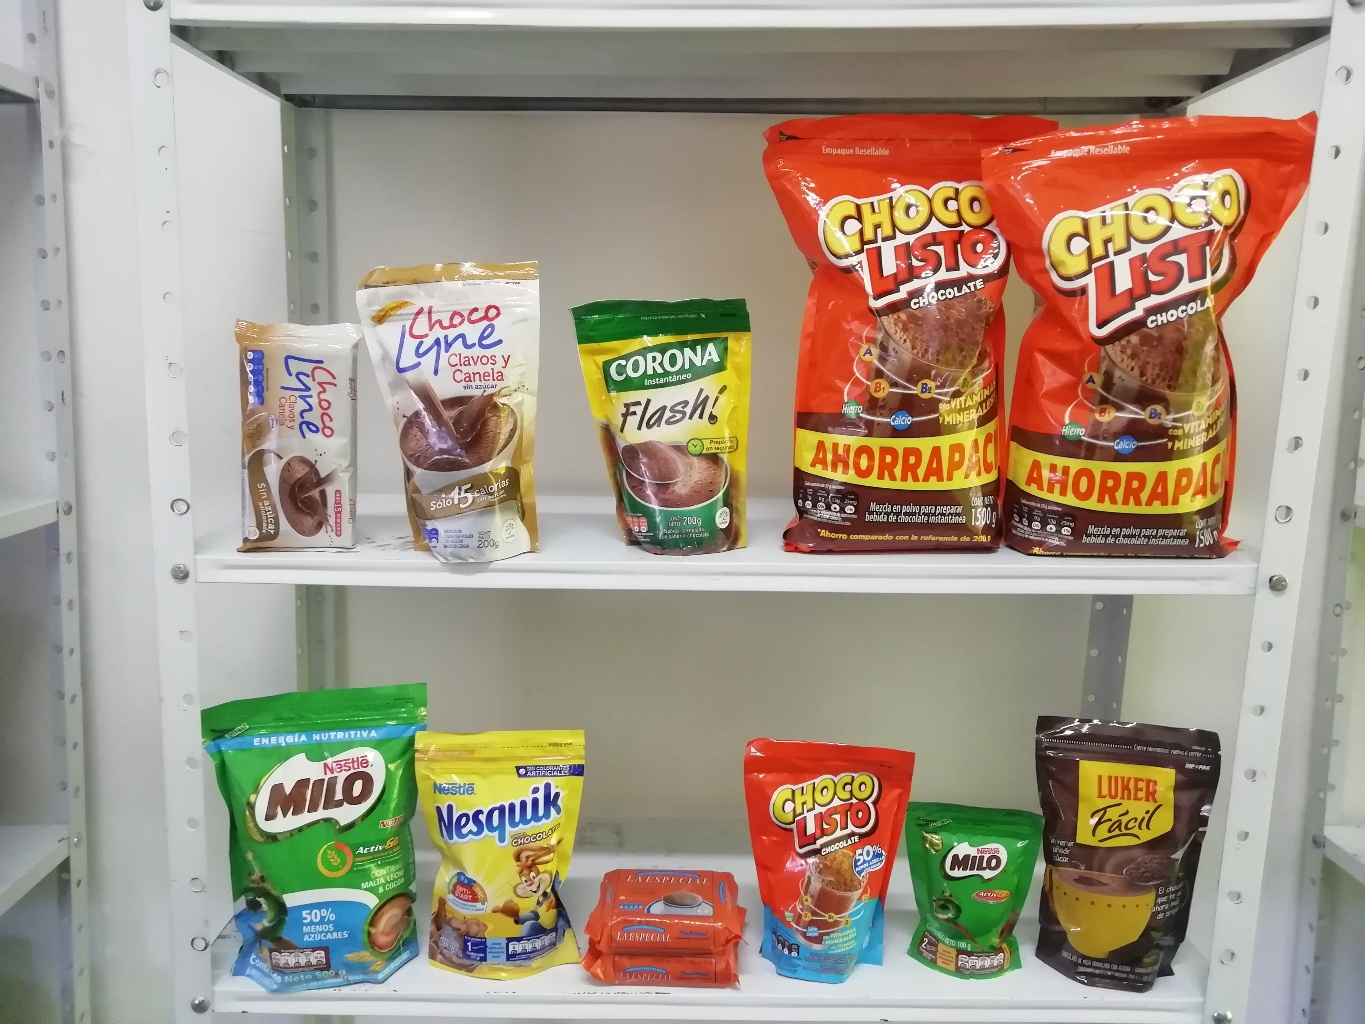COL0170103DYP1,500: (757, 117, 1072, 554)
COL0170104DYP20000: (744, 731, 918, 986)
COL0170203DYP10000: (902, 802, 1049, 982)
COL0170205DYP50000: (194, 685, 433, 989)
COL0170303DYP20000: (414, 725, 591, 979)
